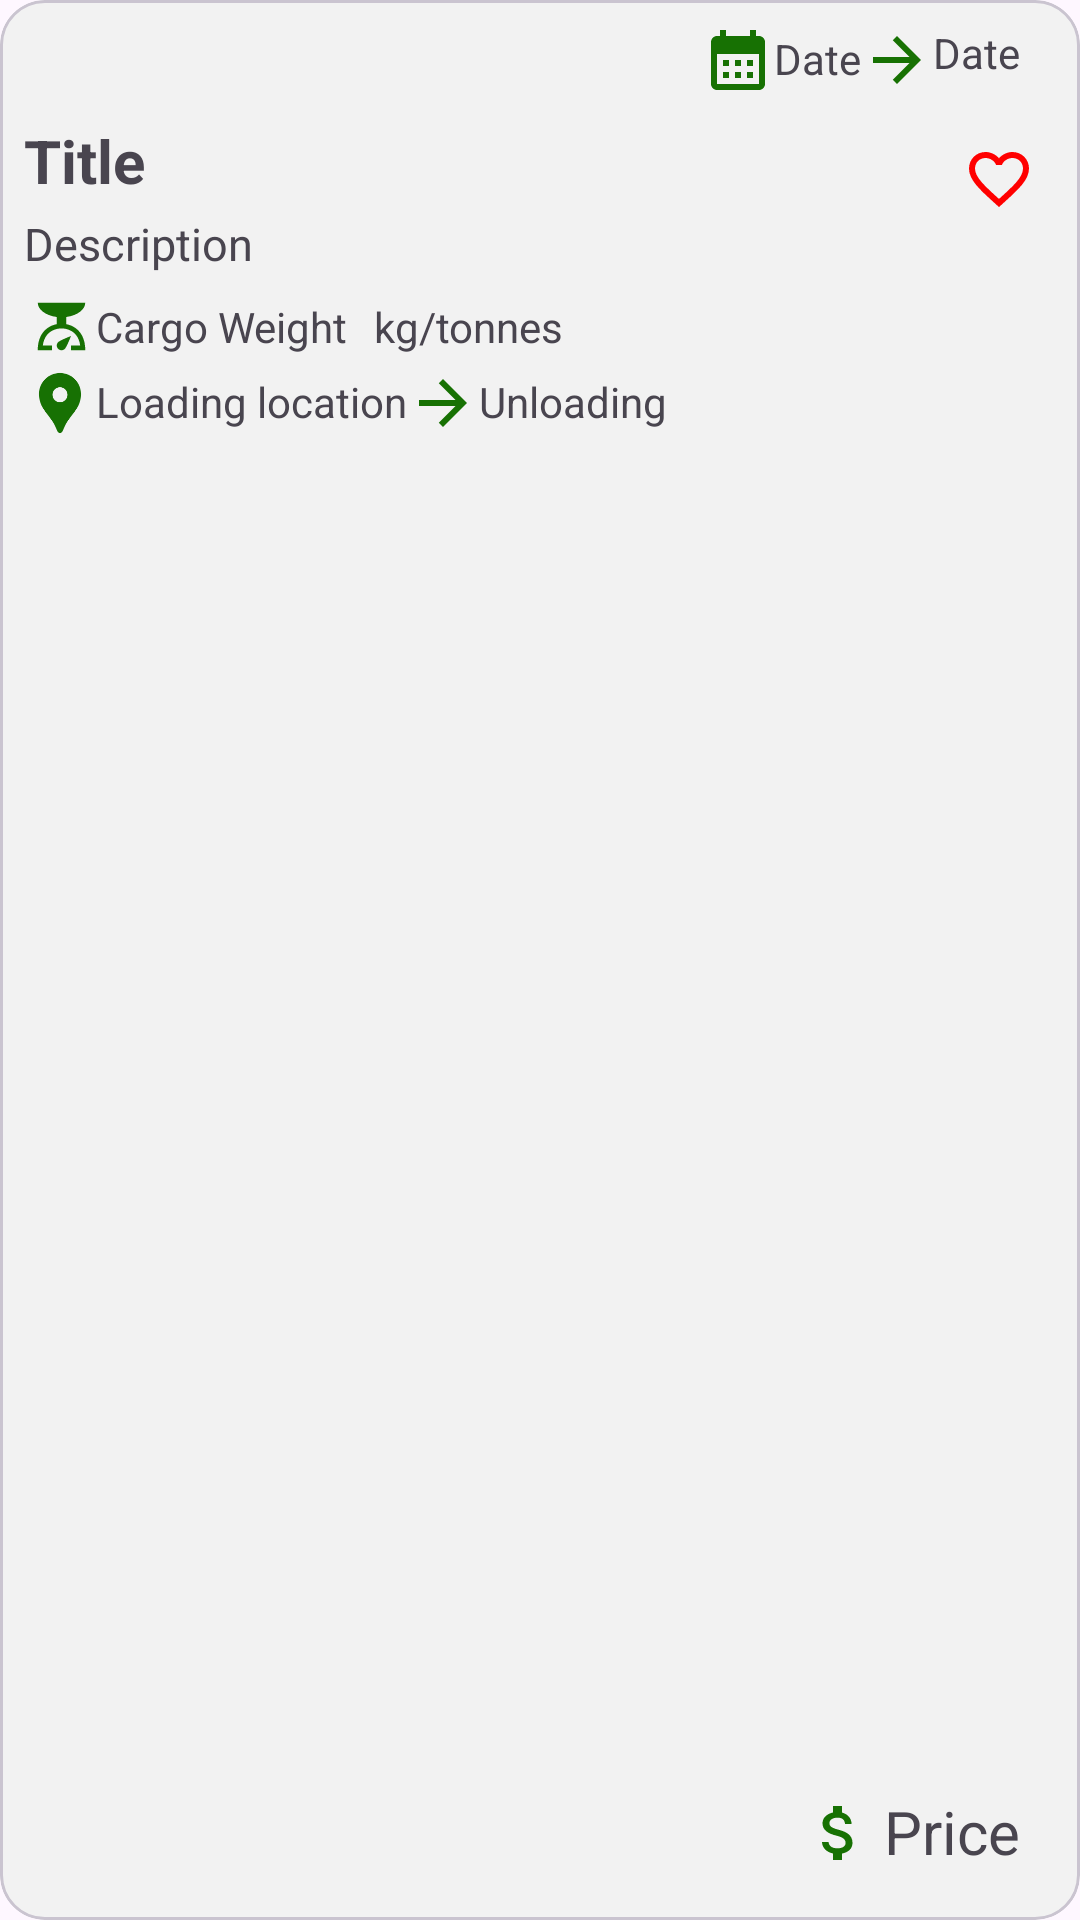

Named icons in this screenshot (1080w x 1920h) and their bounding boxes, (x1, y1, x2, y2):
arrow forward: (873, 36, 921, 84), (419, 379, 467, 427)
attach money: (822, 1806, 853, 1860)
calendar month: (711, 30, 765, 90)
favorite border: (969, 152, 1029, 207)
location pin: (39, 373, 81, 433)
scale: (37, 302, 86, 351)
